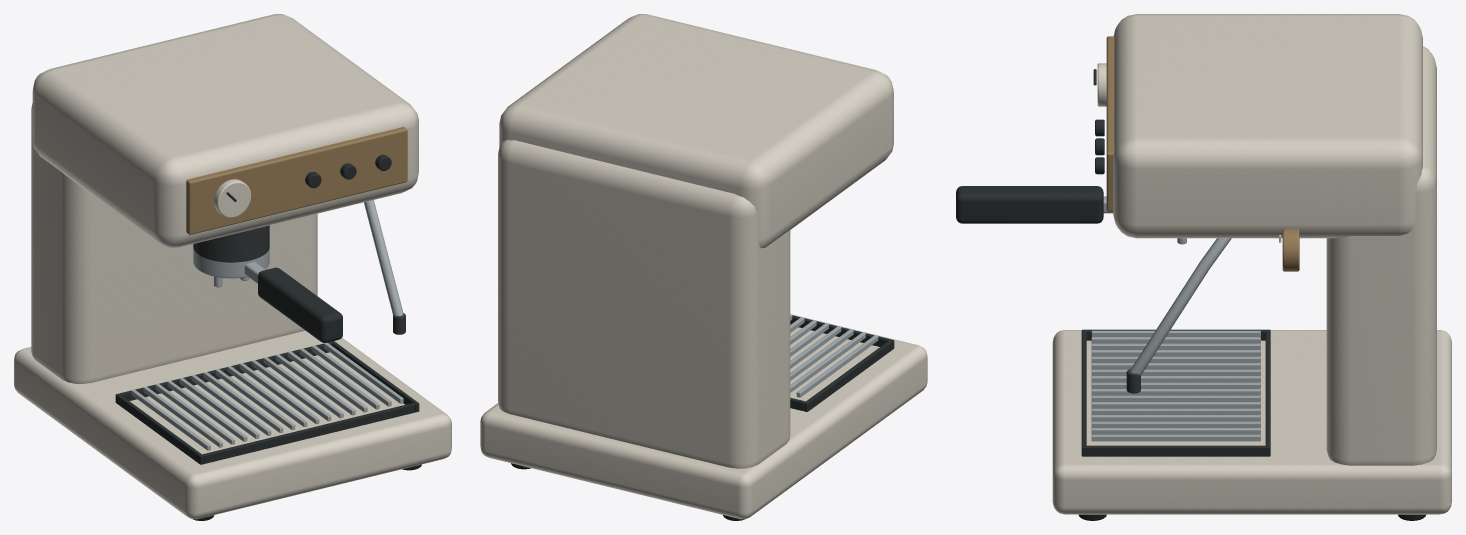
Rendered from porta-espresso.glb.
3 views of the same model, side by side, from view 1: azimuth 30°, elevation 25°; view 2: azimuth 150°, elevation 25°; view 3: azimuth 270°, elevation 25° (orthographic). The views are drawn at different scales.
Parts seen in each view (by area): view 1: CC0_espresso_3, CC0_espresso_0, CC0_espresso_5, CC0_espresso_1, CC0_espresso_2; view 2: CC0_espresso_3, CC0_espresso_0, CC0_espresso_1; view 3: CC0_espresso_3, CC0_espresso_0, CC0_espresso_1, CC0_espresso_5.
Boxes of the visible parts, x1=… form: CC0_espresso_3: x1=14, y1=14, x2=451, y2=519; CC0_espresso_0: x1=131, y1=200, x2=403, y2=450; CC0_espresso_5: x1=186, y1=127, x2=407, y2=234; CC0_espresso_1: x1=115, y1=154, x2=419, y2=464; CC0_espresso_2: x1=193, y1=225, x2=405, y2=334; CC0_espresso_3: x1=480, y1=14, x2=927, y2=519; CC0_espresso_0: x1=790, y1=314, x2=878, y2=397; CC0_espresso_1: x1=790, y1=315, x2=894, y2=411; CC0_espresso_3: x1=1052, y1=14, x2=1451, y2=514; CC0_espresso_0: x1=1091, y1=196, x2=1260, y2=441; CC0_espresso_1: x1=956, y1=69, x2=1270, y2=456; CC0_espresso_5: x1=1106, y1=36, x2=1299, y2=271.
Size of the model in its own units: 0.299 by 0.349 by 0.41.
Materials: 6 (6 with a texture image).
